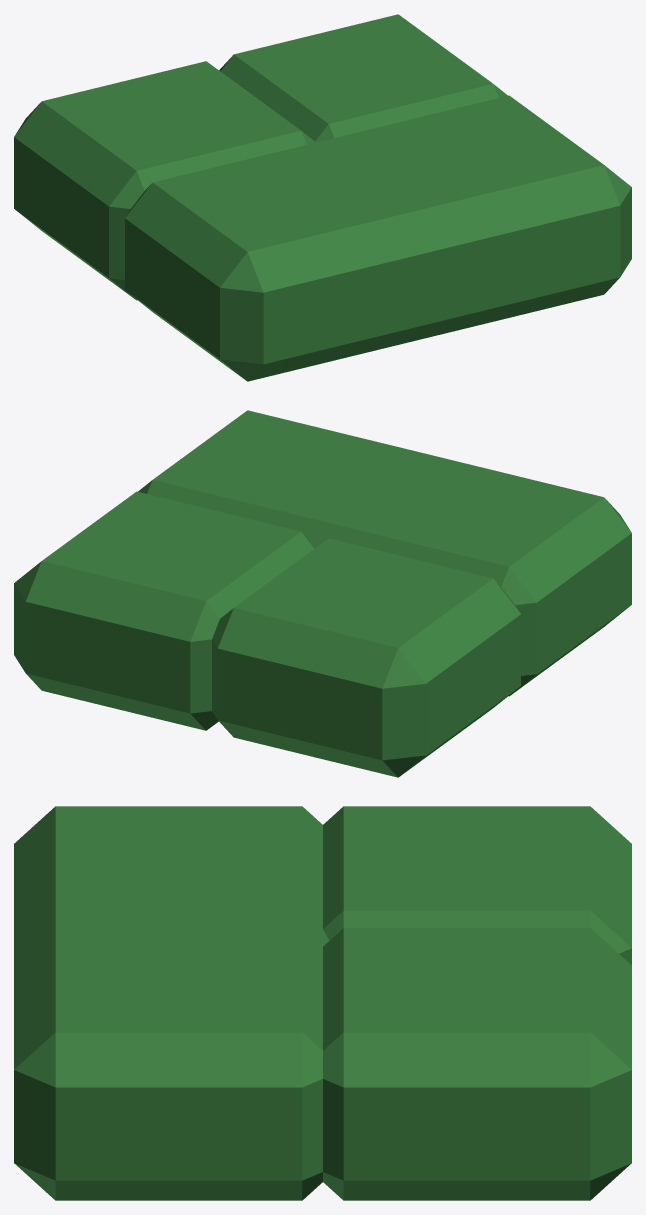
File: m_kub_dung_flat_mixed.fbx
3 views of the same model, one above another, from view 1: azimuth 30°, elevation 25°; view 2: azimuth 150°, elevation 25°; view 3: azimuth 270°, elevation 25° (orthographic). The views are drawn at different scales.
Visible parts, largest first — view 1: m_kub_dung_flat_mixed; view 2: m_kub_dung_flat_mixed; view 3: m_kub_dung_flat_mixed.
Part boxes in pixels (x1,y1,x2,y2): m_kub_dung_flat_mixed: (14, 14, 631, 381); m_kub_dung_flat_mixed: (14, 410, 631, 777); m_kub_dung_flat_mixed: (14, 806, 631, 1200).
Bounding box in the file's own units: 2.15 × 0.6453 × 2.15.
